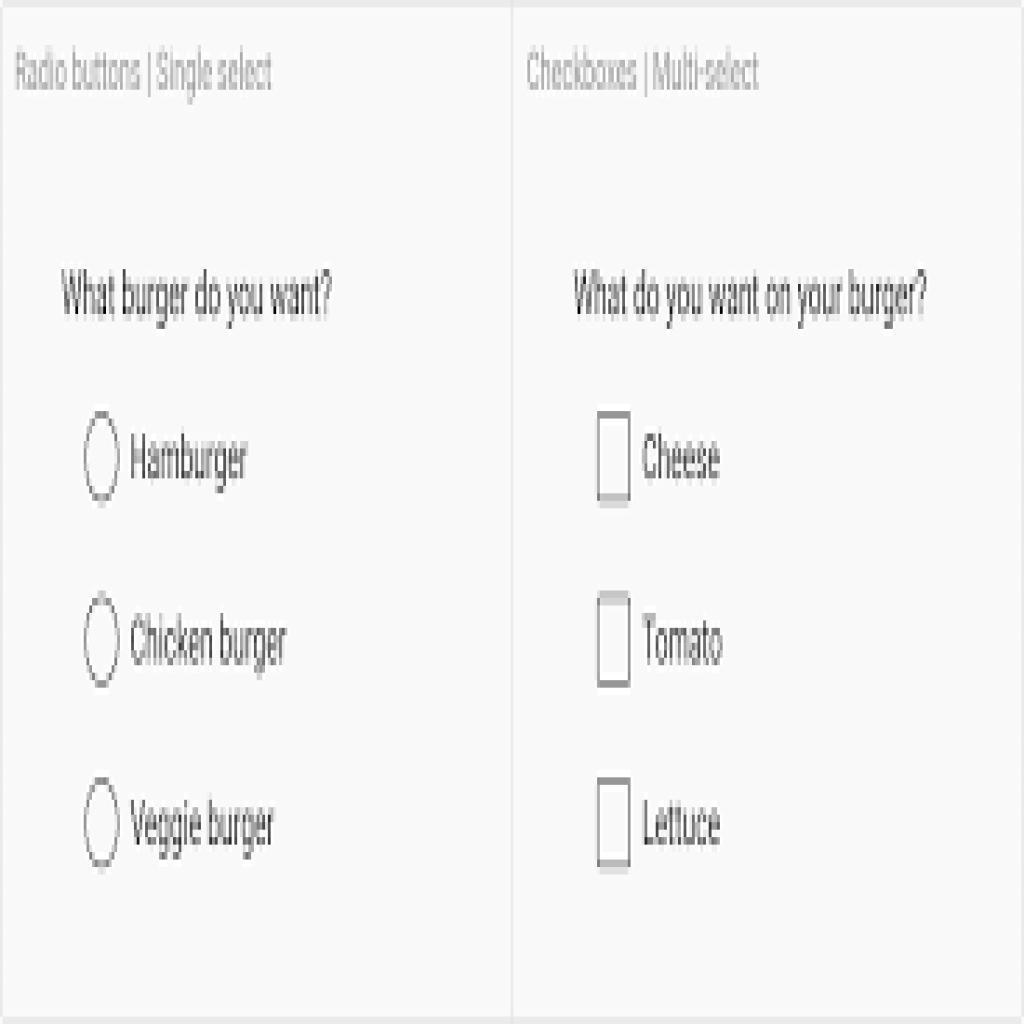checkbox: (600, 415, 636, 502), (600, 599, 632, 686), (600, 779, 632, 865)
label: (570, 257, 930, 335), (53, 266, 340, 329), (132, 612, 290, 678), (132, 800, 279, 866), (130, 429, 256, 490), (640, 606, 731, 675), (641, 793, 731, 855), (642, 429, 726, 492)
radio: (82, 405, 124, 509), (84, 778, 123, 877), (82, 591, 121, 689)
